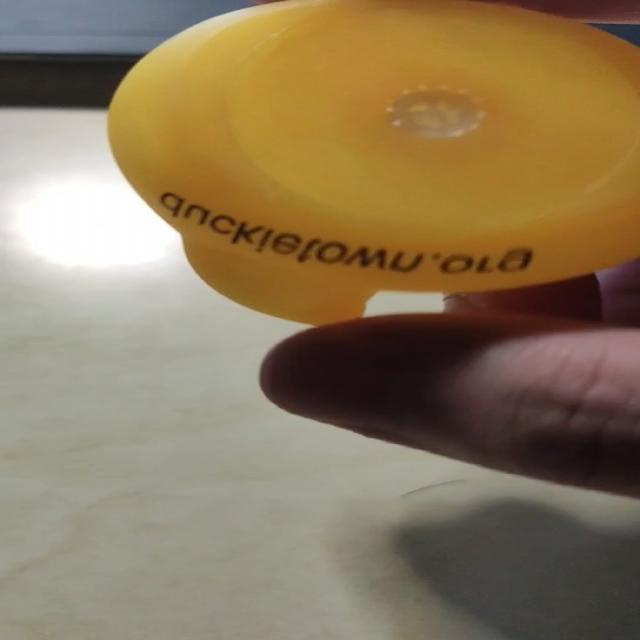rubber-duck: (108, 0, 638, 321)
